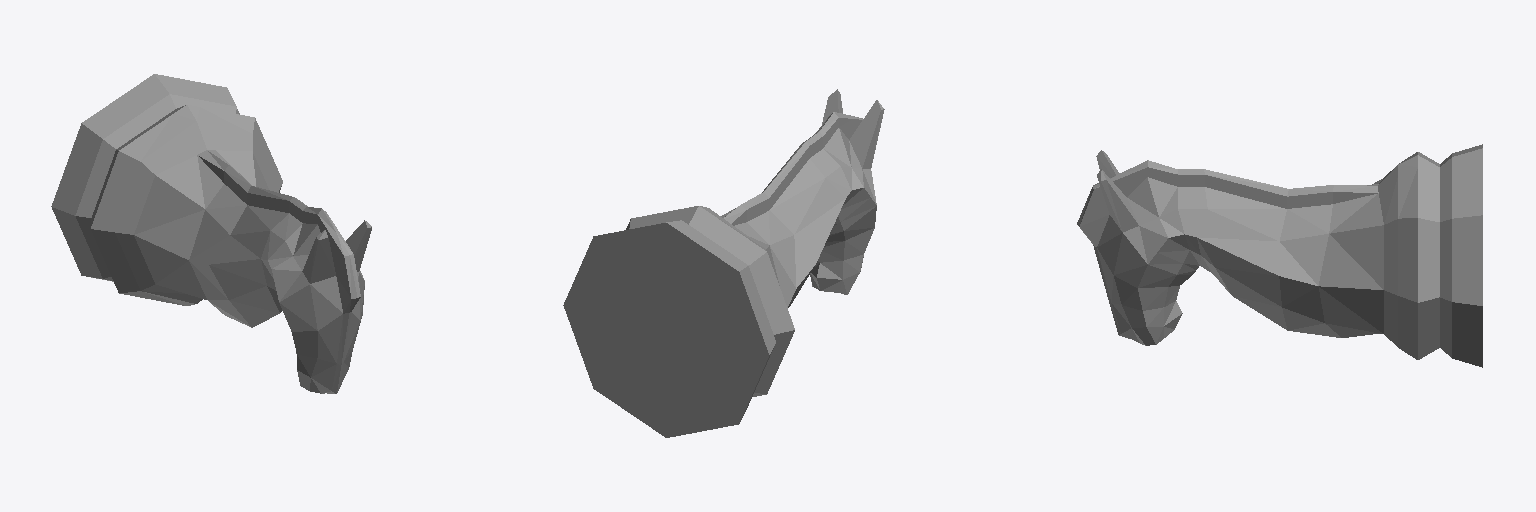
The model's file is knight.obj.
3 renders of one model, left to right at view 1: azimuth 30°, elevation 25°; view 2: azimuth 150°, elevation 25°; view 3: azimuth 270°, elevation 25°, orthographic.
Parts seen in each view (by area): view 1: Knight_Cylinder.001; view 2: Knight_Cylinder.001; view 3: Knight_Cylinder.001.
Part boxes in pixels (left/top/right/bottom): Knight_Cylinder.001: left=51, top=74, right=371, bottom=393; Knight_Cylinder.001: left=563, top=89, right=884, bottom=437; Knight_Cylinder.001: left=1077, top=144, right=1482, bottom=367.
Size of the model in its own units: 0.75 by 0.75 by 1.28.